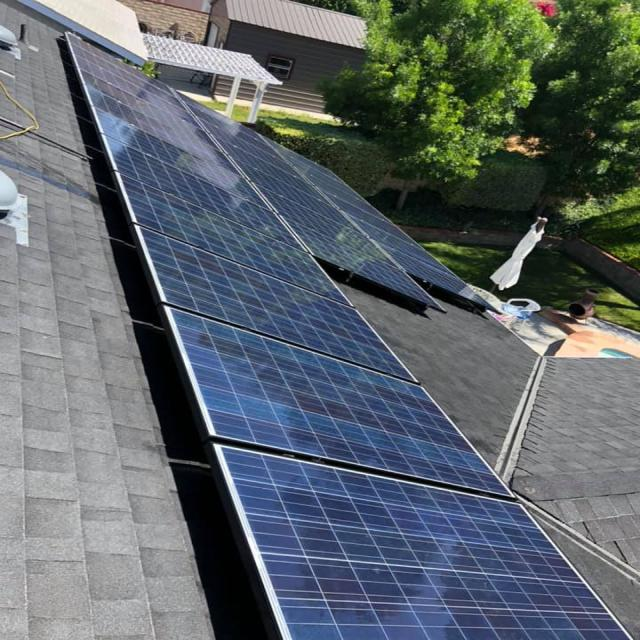clean-solar-panel: (67, 35, 631, 640)
